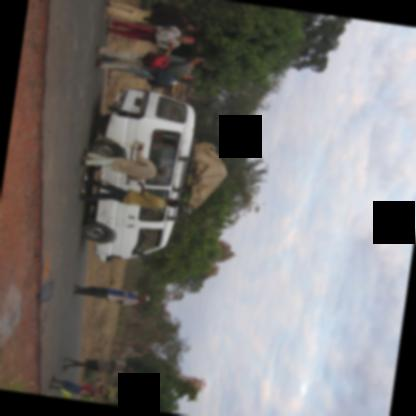backpack: (134, 51, 172, 70), (149, 2, 178, 13), (144, 79, 171, 89)
handbag: (149, 40, 157, 45)
